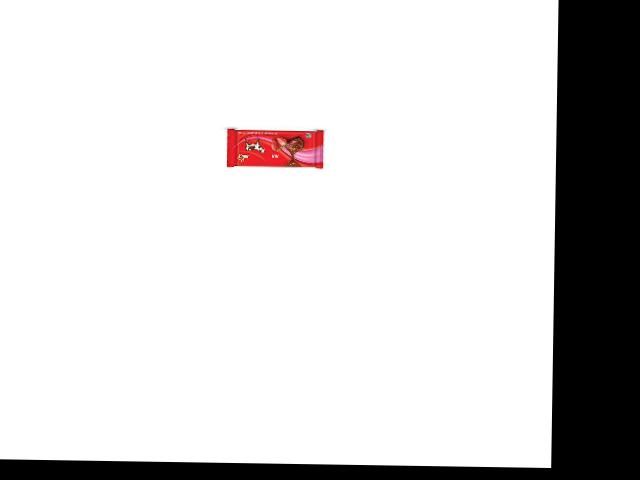chocolate: (219, 121, 324, 168)
